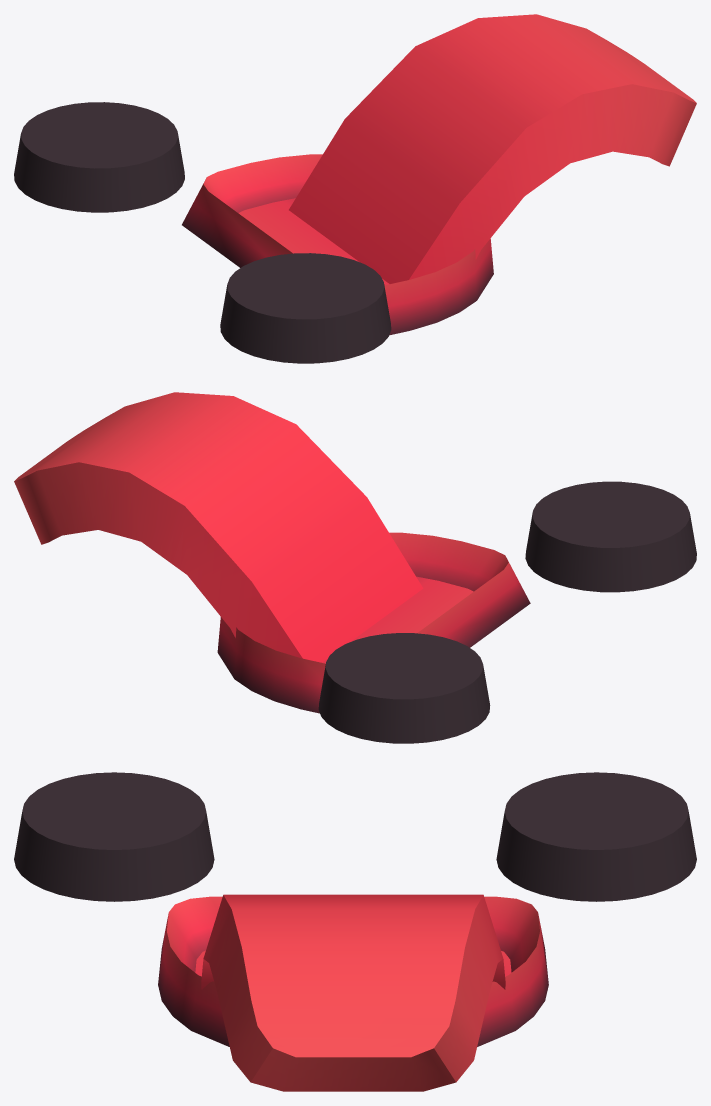
The model's file is column_lev_7.fbx.
3 renders of one model, top to bottom at view 1: azimuth 30°, elevation 25°; view 2: azimuth 150°, elevation 25°; view 3: azimuth 270°, elevation 25°, orthographic. The views are drawn at different scales.
Parts seen in each view (by area): view 1: column_lev_8; view 2: column_lev_8; view 3: column_lev_8.
Part boxes in pixels (left/top/right/bottom): column_lev_8: left=14, top=14, right=696, bottom=363; column_lev_8: left=14, top=392, right=696, bottom=743; column_lev_8: left=14, top=772, right=696, bottom=1091.
Bounding box in the file's own units: 726 × 211 × 681.
